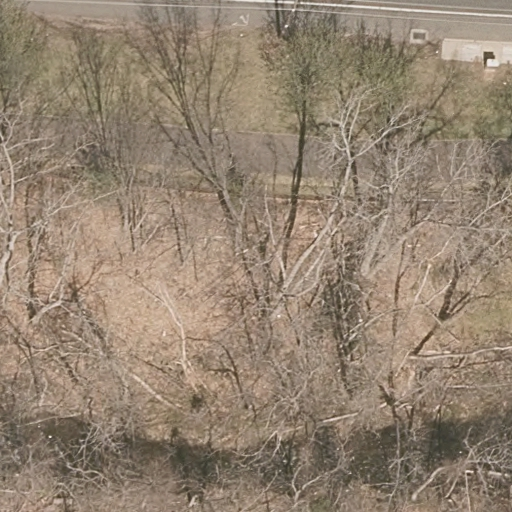DT: (271, 1, 300, 36)
